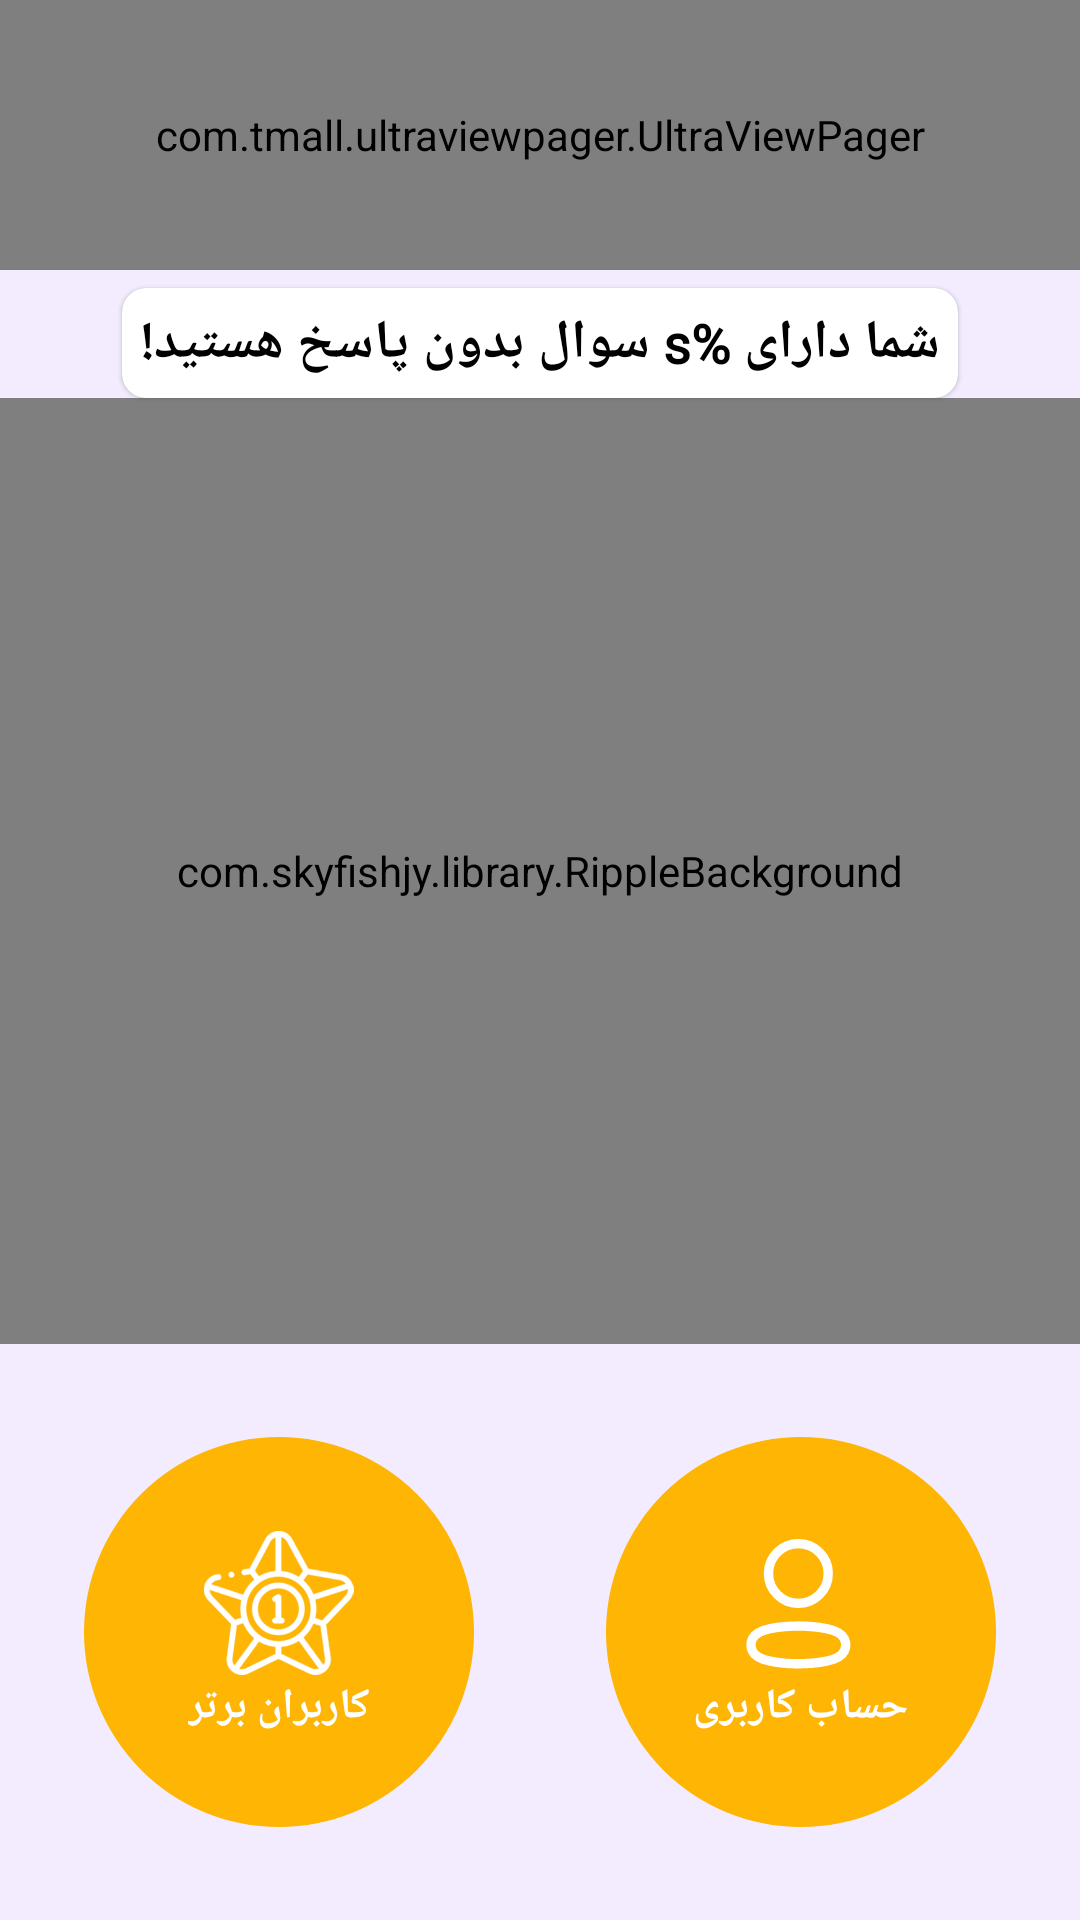

Point at icon controls on the screen. Image size 1080px x 1920px, points as (x,y).
highscore: (279,1603)
